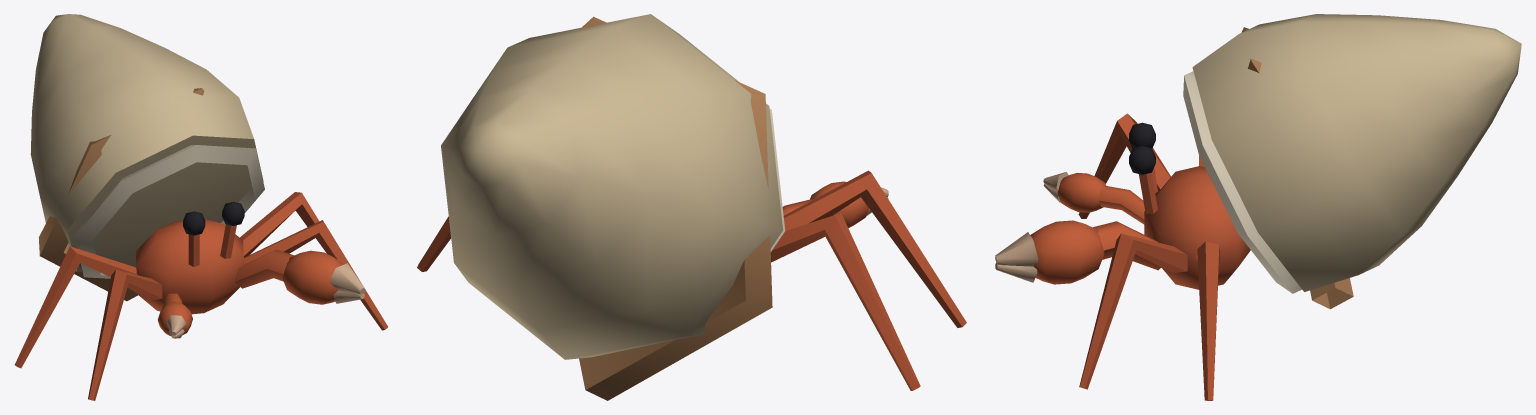
The model's file is crab-hermit.glb.
The picture shows the model from 3 angles, left to right: view 1: azimuth 30°, elevation 25°; view 2: azimuth 150°, elevation 25°; view 3: azimuth 270°, elevation 25°; orthographic projection. The views are drawn at different scales.
Visible parts, largest first — view 1: crab-hermit; view 2: crab-hermit; view 3: crab-hermit.
Part boxes in pixels (left/top/right/bottom): crab-hermit: left=14, top=14, right=387, bottom=400; crab-hermit: left=417, top=14, right=966, bottom=400; crab-hermit: left=995, top=14, right=1521, bottom=400.
Bounding box in the file's own units: 0.244 × 0.1663 × 0.2711.
